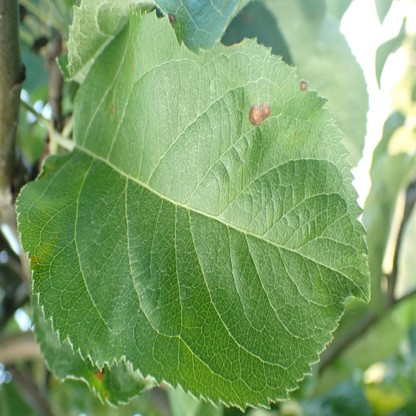frogeye: (248, 103, 272, 125), (95, 368, 105, 379), (169, 13, 176, 25), (300, 80, 307, 91), (111, 105, 113, 113)
scab: (284, 124, 316, 153), (31, 244, 52, 267)
